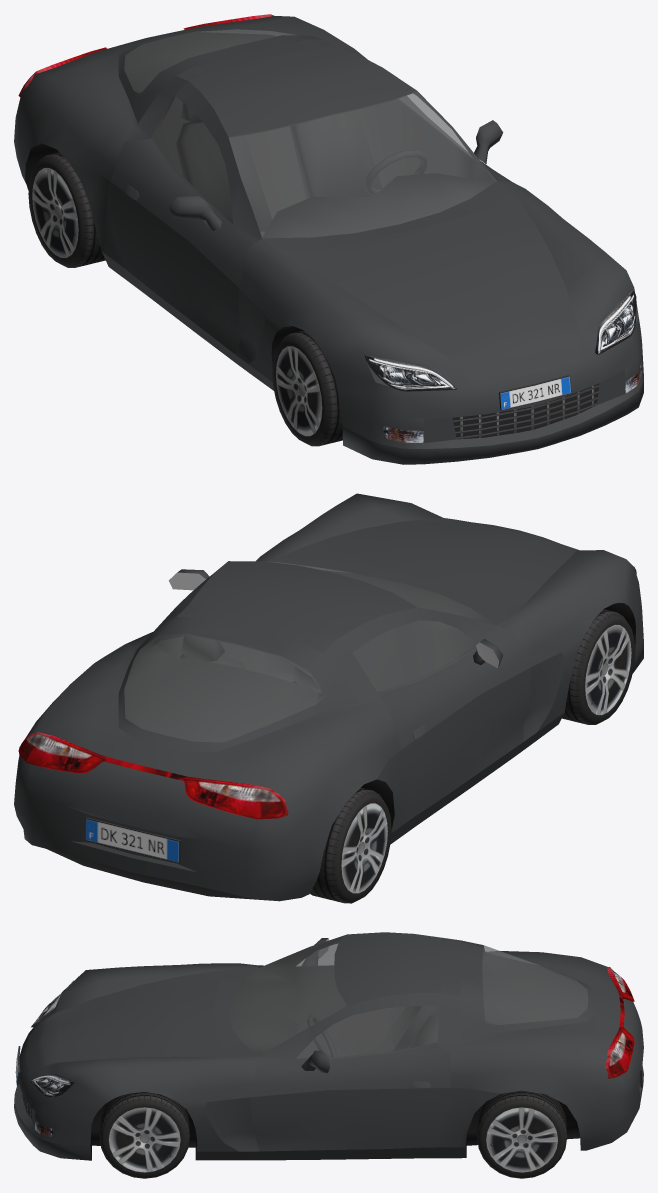
File: sportive.glb
The picture shows the model from 3 angles, top to bottom: view 1: azimuth 30°, elevation 25°; view 2: azimuth 150°, elevation 25°; view 3: azimuth 270°, elevation 25°; orthographic projection. The views are drawn at different scales.
Parts seen in each view (by area): view 1: sportive, interior, Wheels, FrontLights, LicensePlates, RearLights; view 2: sportive, interior, Wheels, RearLights, LicensePlates, sweethome3d_window_mirror; view 3: sportive, interior, Wheels, RearLights, FrontLights.
Part boxes in pixels (x1,y1,x2,y2): sportive: (14,15,643,464); interior: (124,32,496,238); Wheels: (28,152,342,446); FrontLights: (364,289,636,391); LicensePlates: (499,375,571,410); RearLights: (18,14,273,97); sportive: (14,493,643,901); interior: (124,570,495,742); Wheels: (310,609,635,903); RearLights: (18,732,288,819); LicensePlates: (85,817,180,863); sweethome3d_window_mirror: (168,572,499,668); sportive: (14,932,643,1160); interior: (229,934,588,1059); Wheels: (99,1090,566,1178); RearLights: (605,967,634,1078); FrontLights: (30,980,74,1096).
Size of the model in its own units: 2.1 by 1.28 by 4.48.
16 materials, 8 textured.
